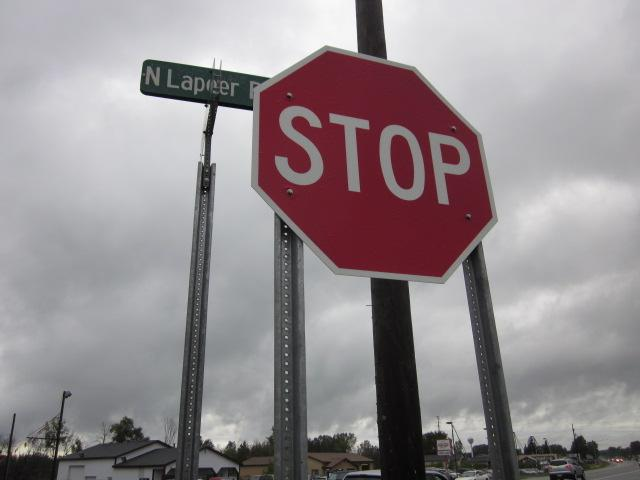stop: (250, 46, 502, 286)
